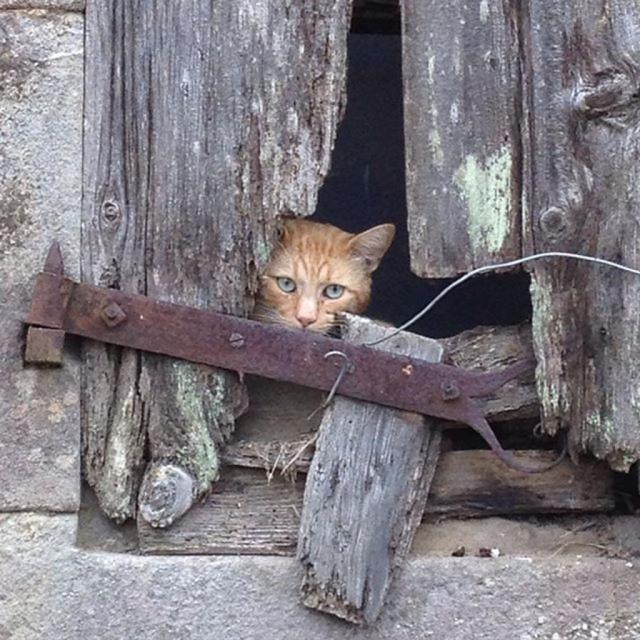Cat: (250, 221, 396, 336)
